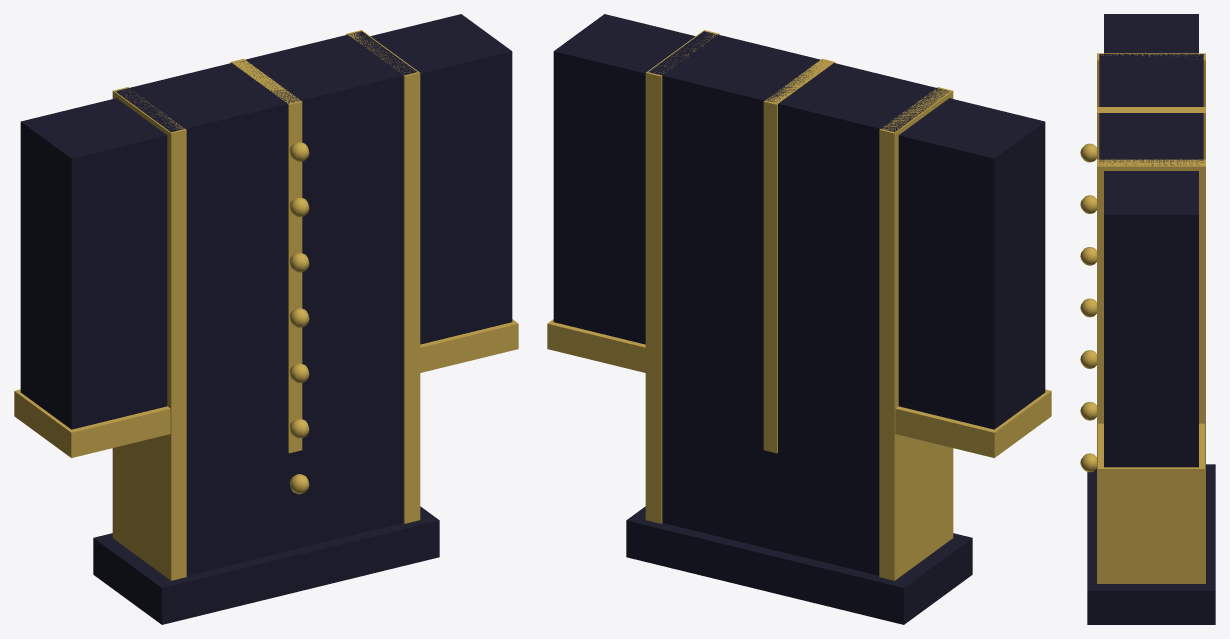
Rendered from sherwani.glb.
3 renders of one model, left to right at view 1: azimuth 30°, elevation 25°; view 2: azimuth 150°, elevation 25°; view 3: azimuth 270°, elevation 25°, orthographic. The views are drawn at different scales.
Size of the model in its own units: 1.01 by 1.05 by 0.285.
